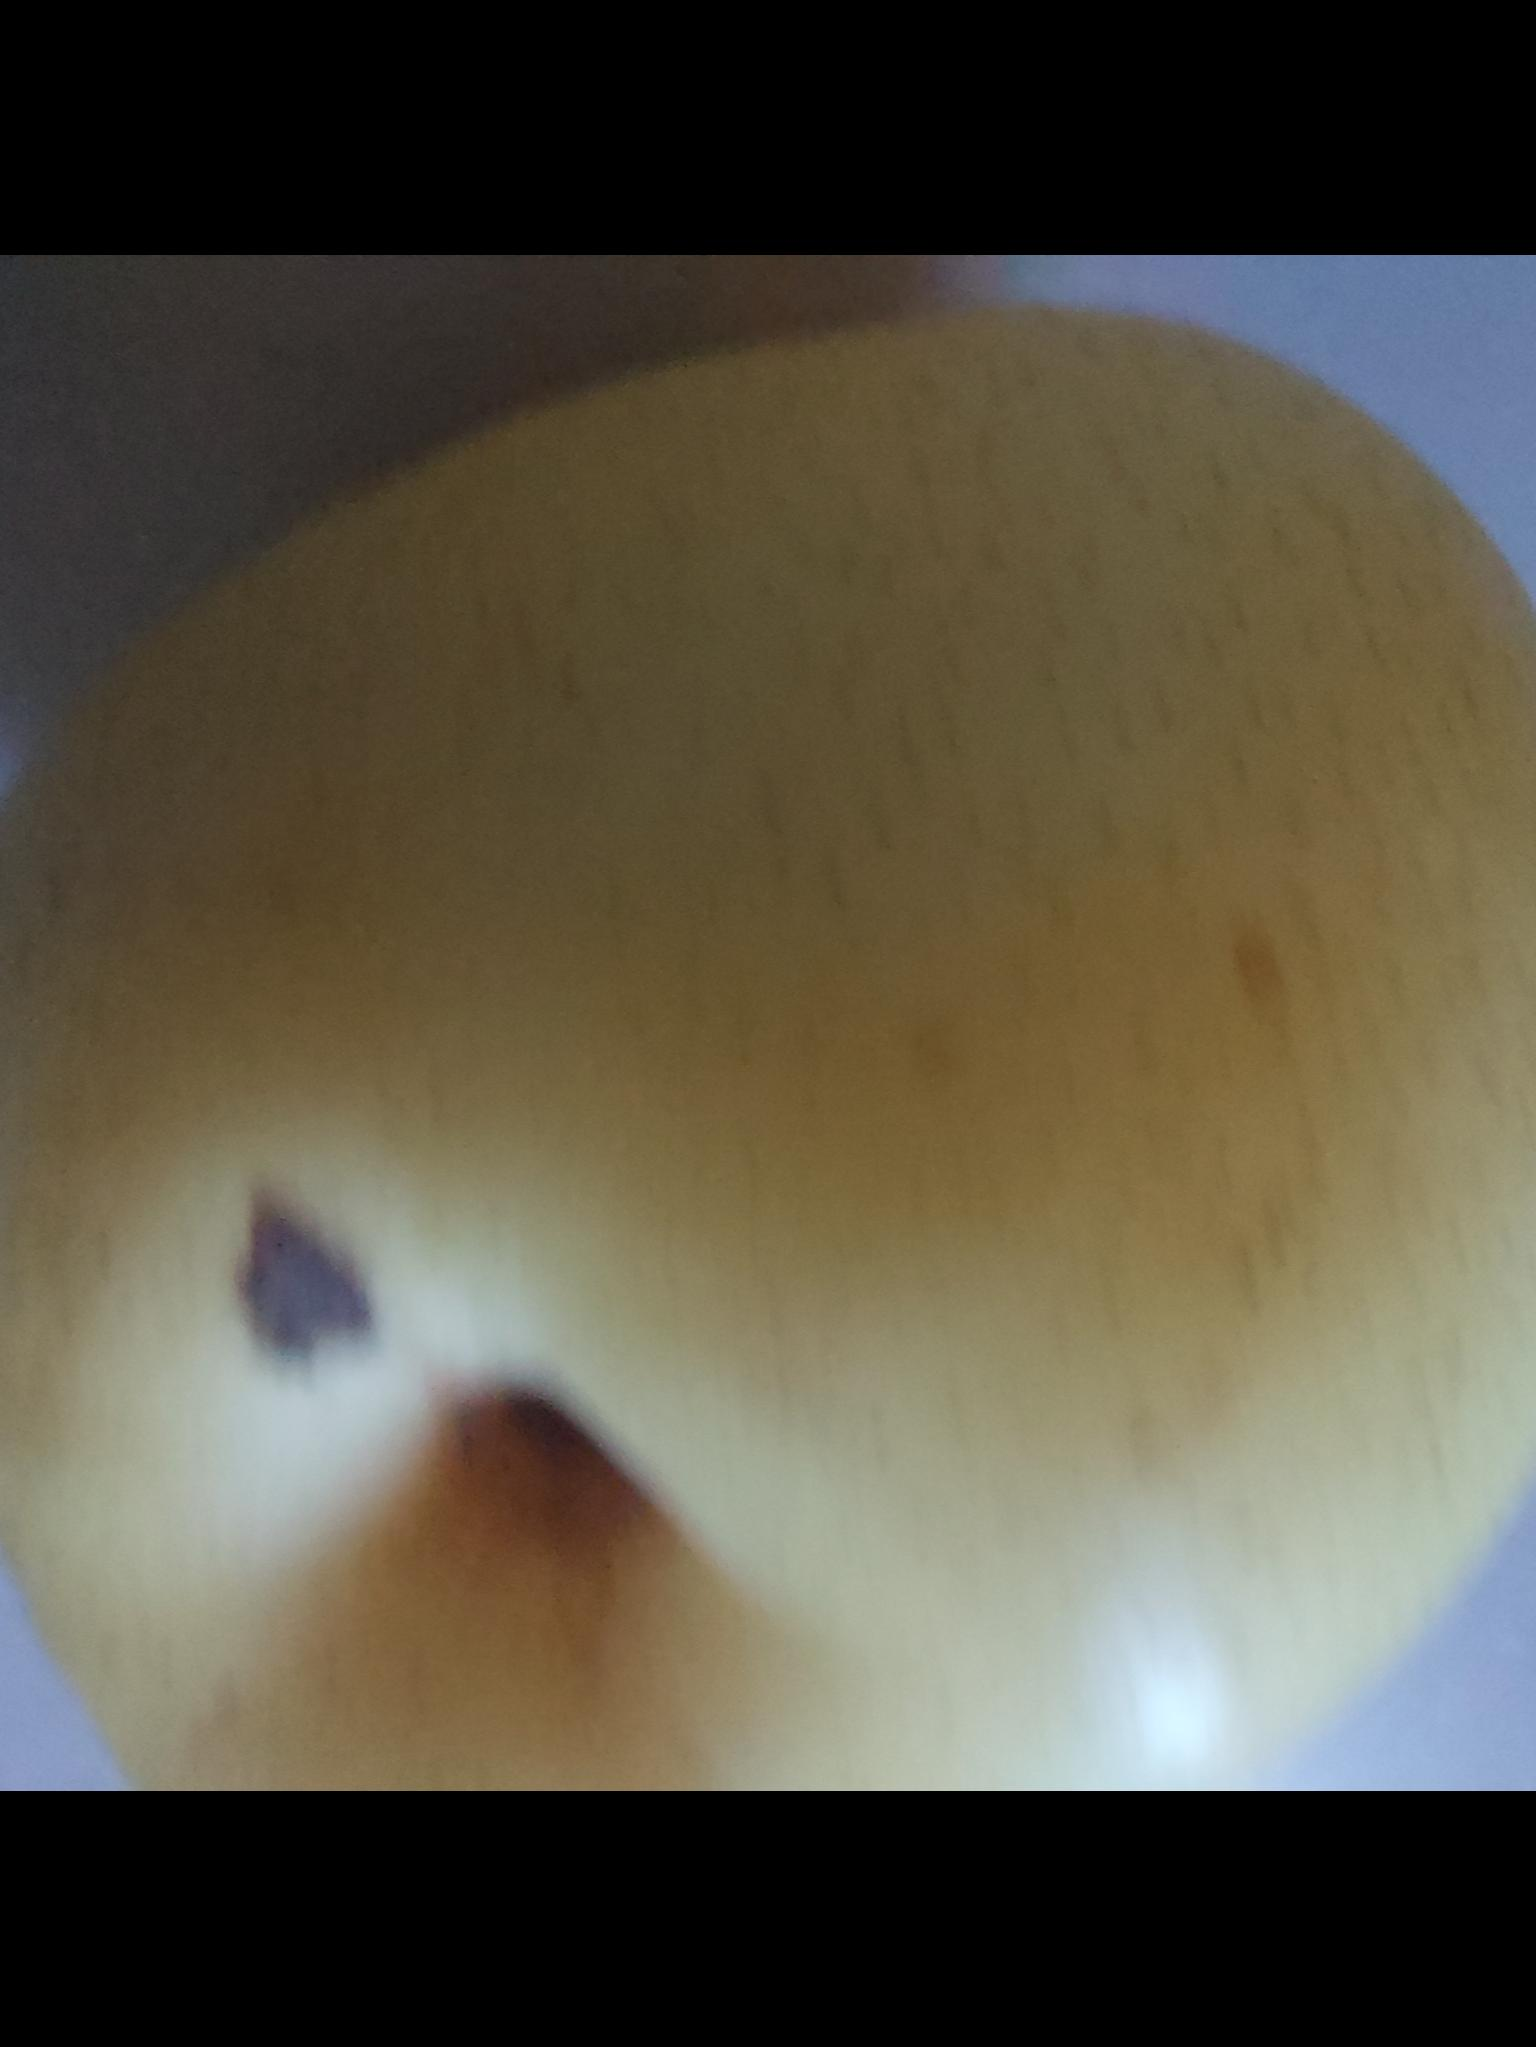Good Pear: (0, 290, 1536, 1792)
